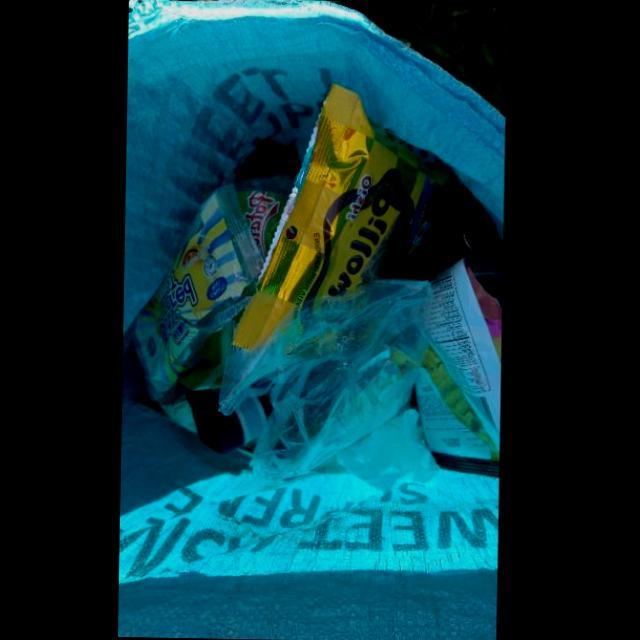bao_bi_thuc_pham: (230, 81, 448, 351), (133, 182, 262, 392), (414, 256, 501, 477), (232, 169, 298, 260)
